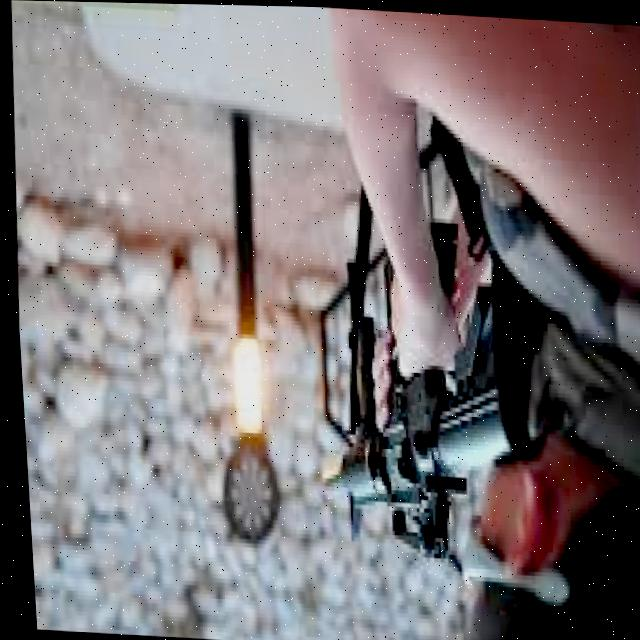firearm: (304, 212, 541, 569)
